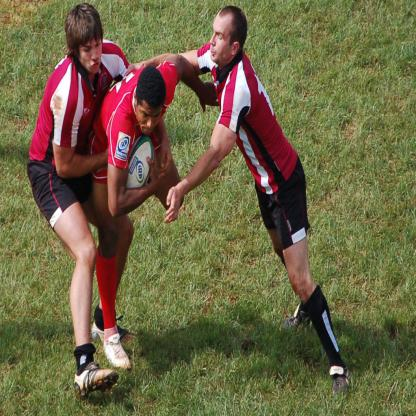Ball: (126, 136, 155, 192)
